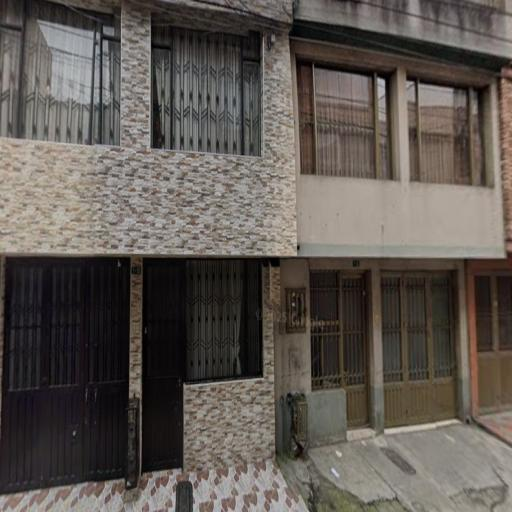Casa: (0, 0, 301, 496), (270, 0, 512, 467)
